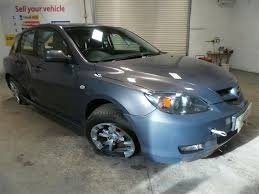Dent: (19, 78, 41, 102)
Smashed: (88, 90, 179, 166)
